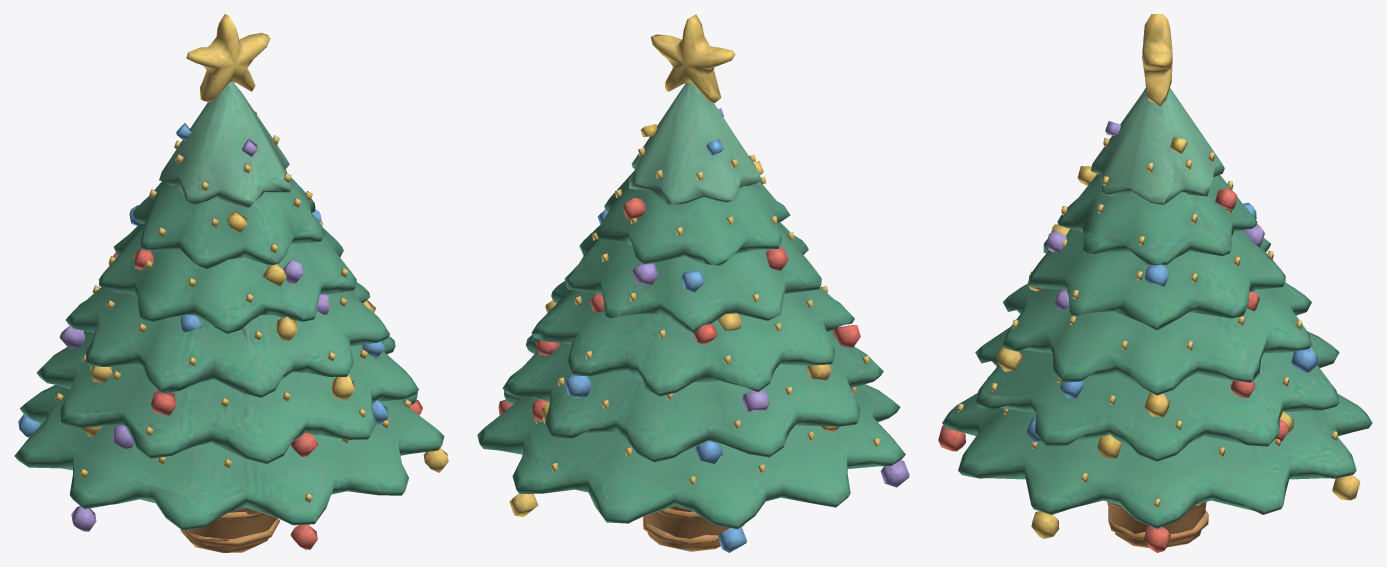
Rendered from christmas-tree.glb.
3 views of the same model, side by side, from view 1: azimuth 30°, elevation 25°; view 2: azimuth 150°, elevation 25°; view 3: azimuth 270°, elevation 25° (orthographic).
Parts seen in each view (by area): view 1: christmas-tree_body; view 2: christmas-tree_body; view 3: christmas-tree_body.
Boxes of the visible parts, x1=… form: christmas-tree_body: x1=14, y1=14, x2=448, y2=552; christmas-tree_body: x1=477, y1=14, x2=909, y2=552; christmas-tree_body: x1=938, y1=14, x2=1372, y2=552.
Size of the model in its own units: 2 by 2.62 by 1.99.
Materials: 1 (1 with a texture image).
